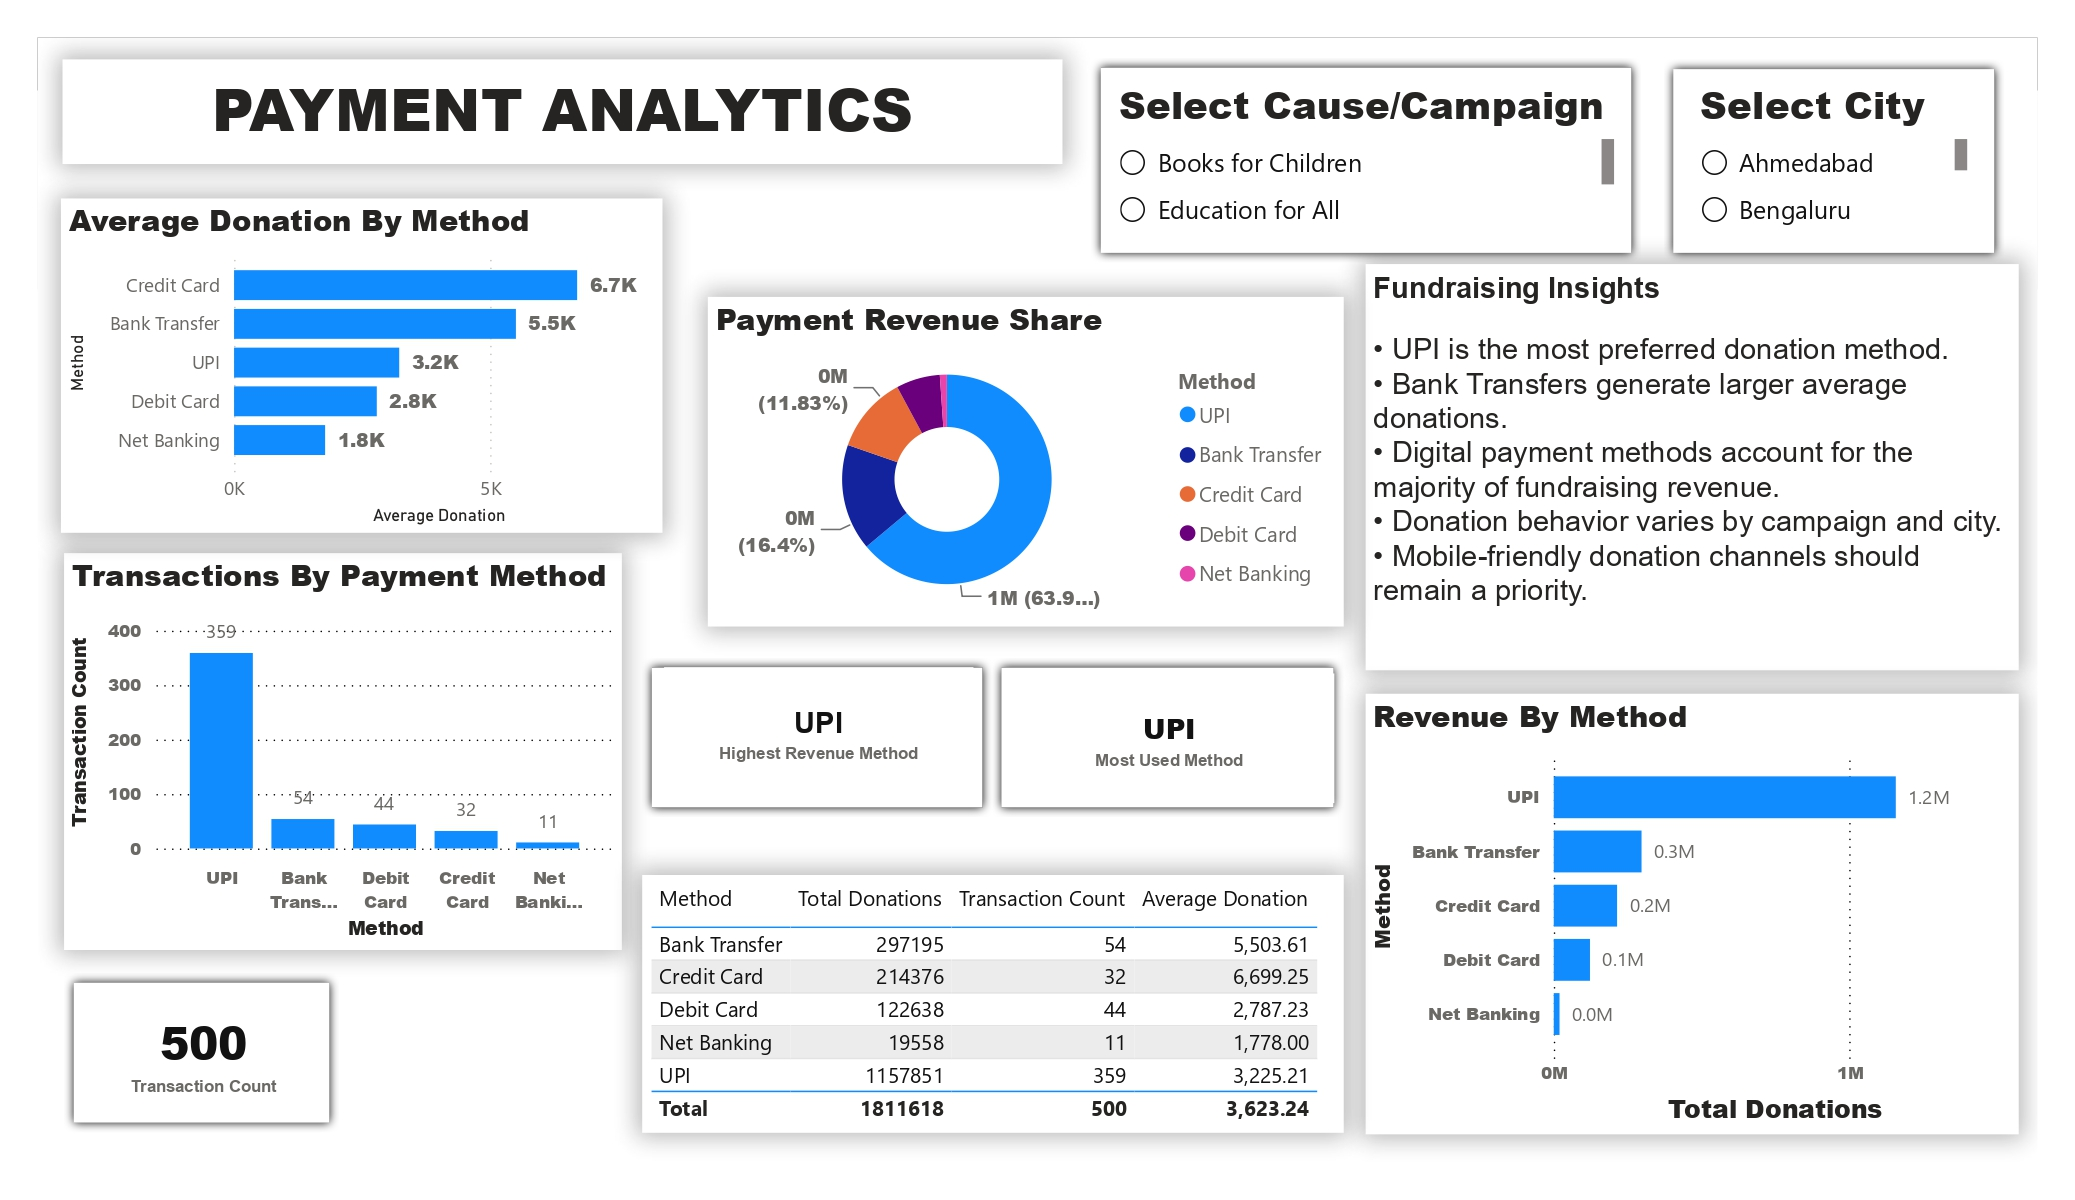

What the dashboard file says about the page in this screenshot:
{"tool":"powerbi","page":{"name":"Page 5","canvas":[1280,720],"ordinal":4},"visuals":[{"type":"shape","box":[387.1,397.1,224.3,101.4],"z":0},{"type":"textbox","box":[850,145,418.3,260],"z":1000},{"type":"shape","box":[1041.4,14.3,217.1,130],"z":2000},{"type":"shape","box":[674.3,12.9,351.4,131.4],"z":3000},{"type":"textbox","box":[15.7,14.3,640,67.1],"z":4000},{"type":"listSlicer","title":"Select Cause/Campaign","fields":{"Values":["NayePankh Donations.Cause/Campaign"]},"box":[687.1,25.7,327.1,102.9],"z":5000},{"type":"listSlicer","title":"Select City","fields":{"Values":["NayePankh Donations.City"]},"box":[1058.6,25.7,181.4,102.9],"z":6000},{"type":"columnChart","title":"Transactions By Payment Method","fields":{"Category":["NayePankh Donations.Method"],"Y":["NayePankh Donations.Transaction Count"]},"box":[17.1,330,357.1,254.3],"z":7000},{"type":"clusteredBarChart","title":"Revenue By Method","fields":{"Y":["NayePankh Donations.Total Donations"],"Category":["NayePankh Donations.Method"]},"box":[850,420,418,282],"z":8000},{"type":"barChart","title":"Average Donation By Method","fields":{"Y":["NayePankh Donations.Average Donation"],"Category":["NayePankh Donations.Method"]},"box":[15,103.3,385,213.3],"z":9000},{"type":"shape","box":[611.4,397.1,224.3,101.4],"z":10000},{"type":"cardVisual","fields":{"Data":["NayePankh Donations.Most Used Method"]},"box":[618.6,407.1,211.4,82.9],"z":11000},{"type":"shape","box":[17.1,598.6,175.7,102.9],"z":12000},{"type":"cardVisual","fields":{"Data":["NayePankh Donations.Transaction Count"]},"box":[28.6,605.7,155.7,88.6],"z":13000},{"type":"tableEx","title":"Campaign Donor Count","fields":{"Values":["NayePankh Donations.Method","NayePankh Donations.Total Donations","NayePankh Donations.Transaction Count","NayePankh Donations.Average Donation"]},"box":[387.1,535.7,448.6,165.7],"z":14000},{"type":"cardVisual","fields":{"Data":["NayePankh Donations.Highest Revenue Method"]},"box":[401.4,402.9,197.1,88.6],"z":15000},{"type":"donutChart","title":"Payment Revenue Share","fields":{"Category":["NayePankh Donations.Method"],"Y":["NayePankh Donations.Total Donations"]},"box":[428.6,165.7,407.1,211.4],"z":16000}]}

Visuals, with their boxes on the page's 1280x720 design canvas (x1, y1, x2, y2). These are canvas units, not pixel positions in the 2075x1200 screenshot, which may show the page scaled, cropped or inside an application window:
shape: [387, 397, 611, 498]
textbox: [850, 145, 1268, 405]
shape: [1041, 14, 1258, 144]
shape: [674, 13, 1026, 144]
textbox: [16, 14, 656, 81]
"Select Cause/Campaign" listSlicer: [687, 26, 1014, 129]
"Select City" listSlicer: [1059, 26, 1240, 129]
"Transactions By Payment Method" columnChart: [17, 330, 374, 584]
"Revenue By Method" clusteredBarChart: [850, 420, 1268, 702]
"Average Donation By Method" barChart: [15, 103, 400, 317]
shape: [611, 397, 836, 498]
cardVisual - NayePankh Donations.Most Used Method: [619, 407, 830, 490]
shape: [17, 599, 193, 702]
cardVisual - NayePankh Donations.Transaction Count: [29, 606, 184, 694]
"Campaign Donor Count" tableEx: [387, 536, 836, 701]
cardVisual - NayePankh Donations.Highest Revenue Method: [401, 403, 598, 492]
"Payment Revenue Share" donutChart: [429, 166, 836, 377]
